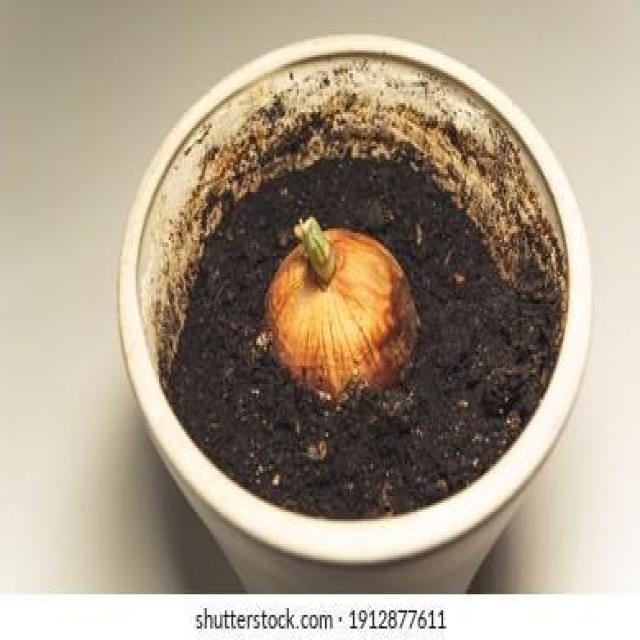Onion: (264, 217, 420, 405)
